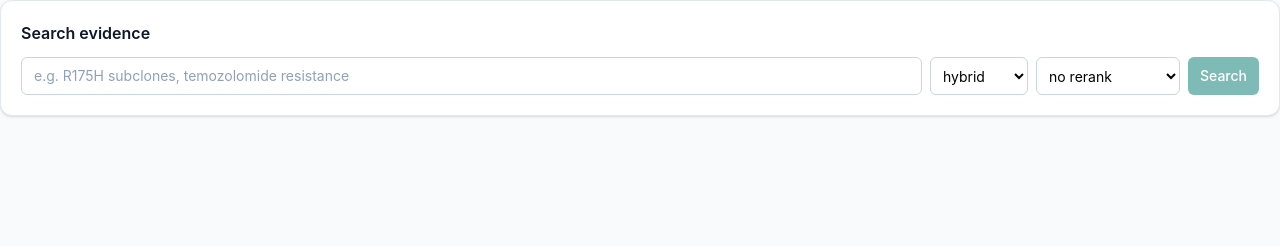
Test: EvidenceSearch › shows ranks per retriever, rerank grades and degraded-mode warnings, and sends the chosen reranker
Select "LLM rerank (7B)" in the dropdown named "Reranker" at (1108, 76), box left=1036, top=57, right=1180, bottom=95
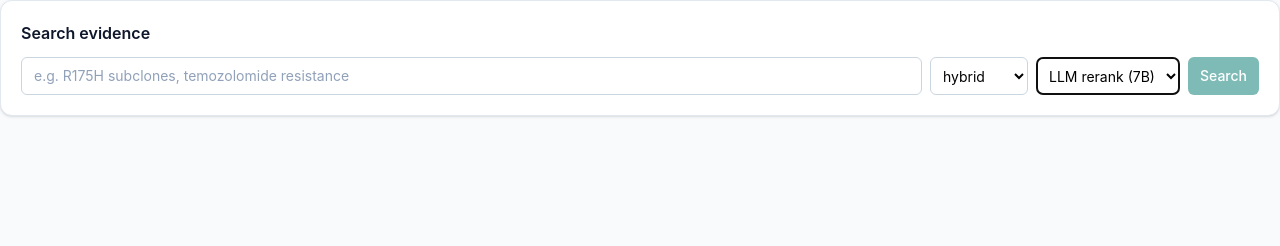
Type "R175H" into the field named "Evidence query" at (472, 76), box left=21, top=57, right=922, bottom=95
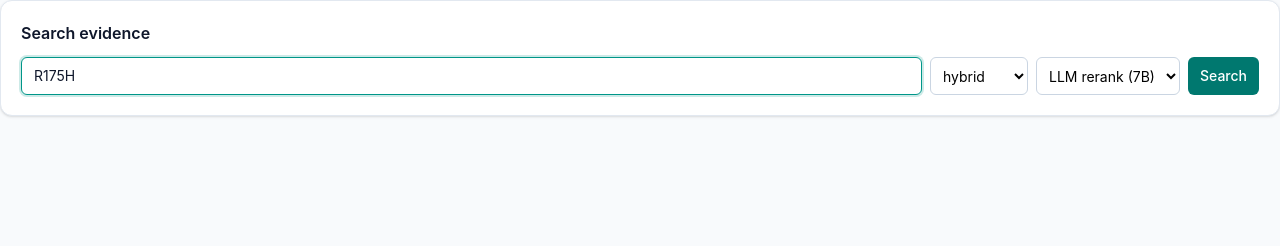
Click the button "Search" at (1224, 76), box left=1188, top=57, right=1259, bottom=95
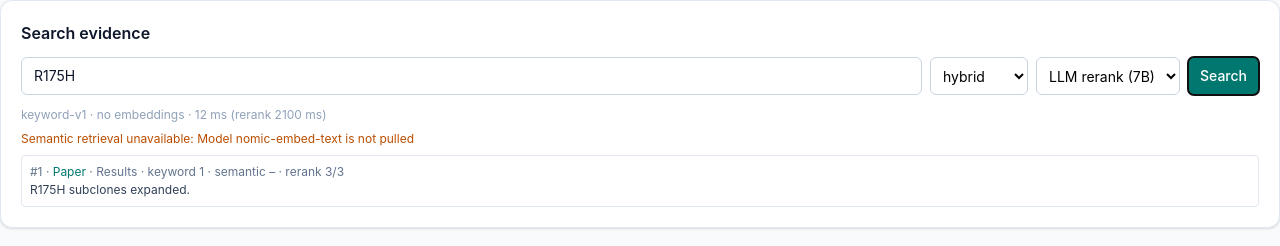
Result: the message shows "Semantic retrieval unavailable" at left=21, top=131, right=414, bottom=146
Result: the text "#1 · Paper · Results · keyword 1 · semantic – · rerank 3/3" is shown at left=30, top=164, right=344, bottom=179
Result: the text "keyword-v1 · no embeddings · 12 ms (rerank 2100 ms)" is shown at left=21, top=107, right=326, bottom=122
